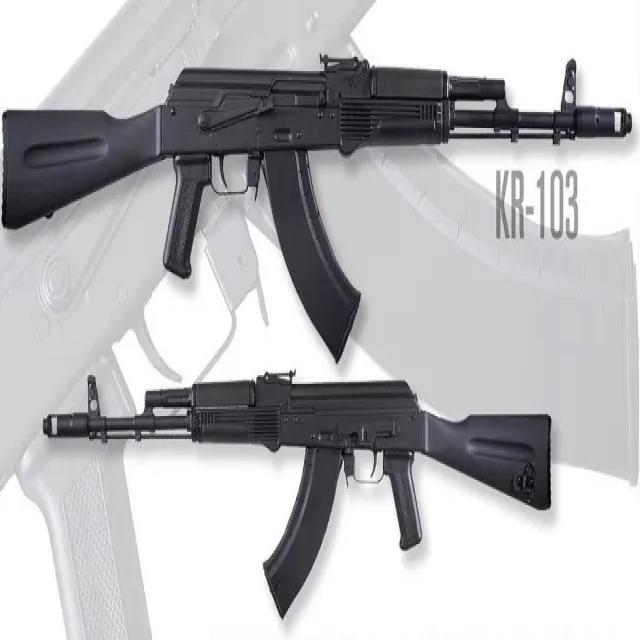weapon: (0, 52, 634, 367), (34, 366, 552, 621)
